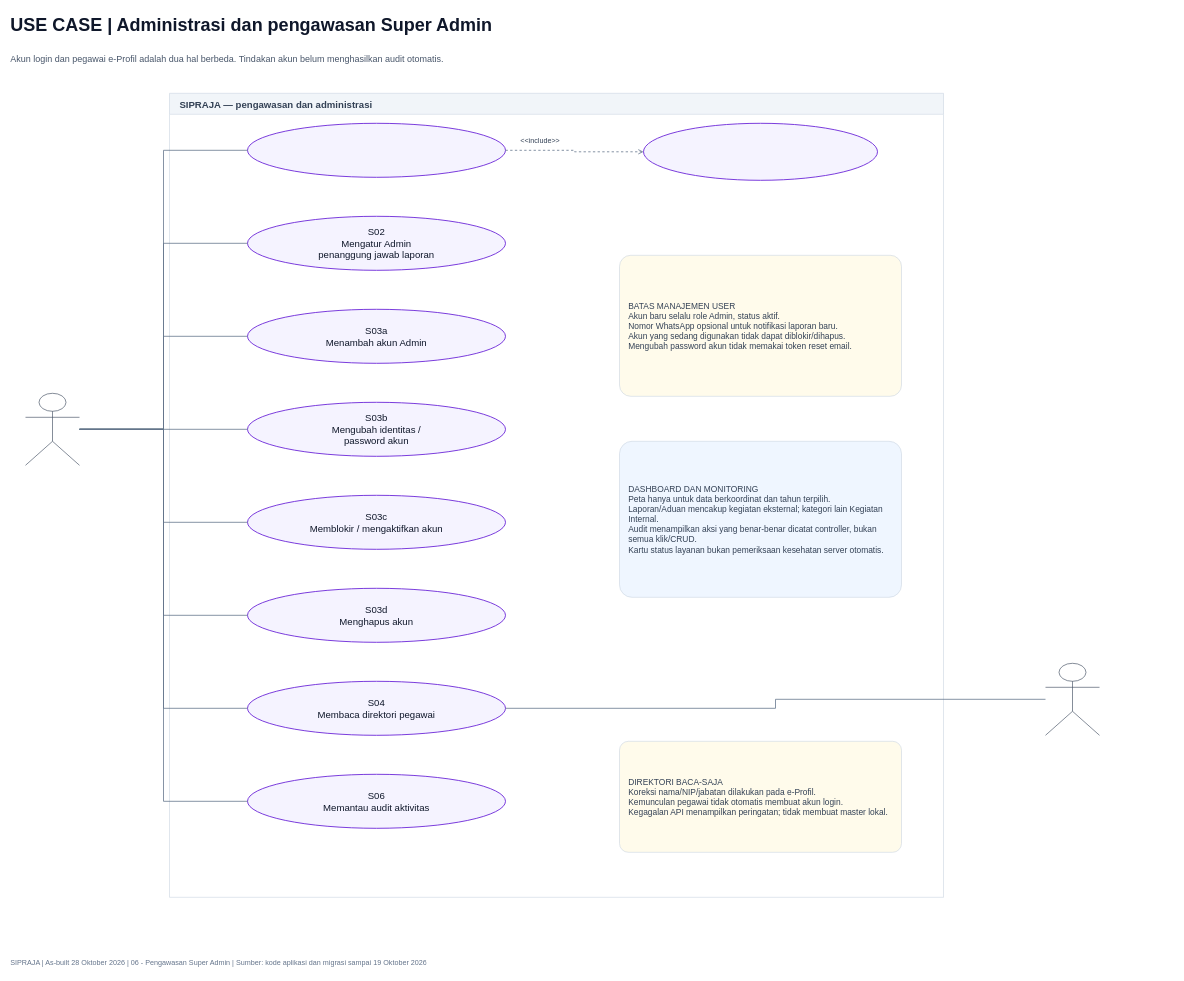
Image size: 1184x981. Some labels were removed from this diagram. The centre of each missing label's shape, as x and y in pixels:
"API e-Profil" goes at pixel 1072 699.
"Melihat peta laporan / kegiatan dalam dashboard" goes at pixel 760 151.
"S01 Melihat dashboard statistik" goes at pixel 376 150.
"Super Admin" goes at pixel 52 429.
